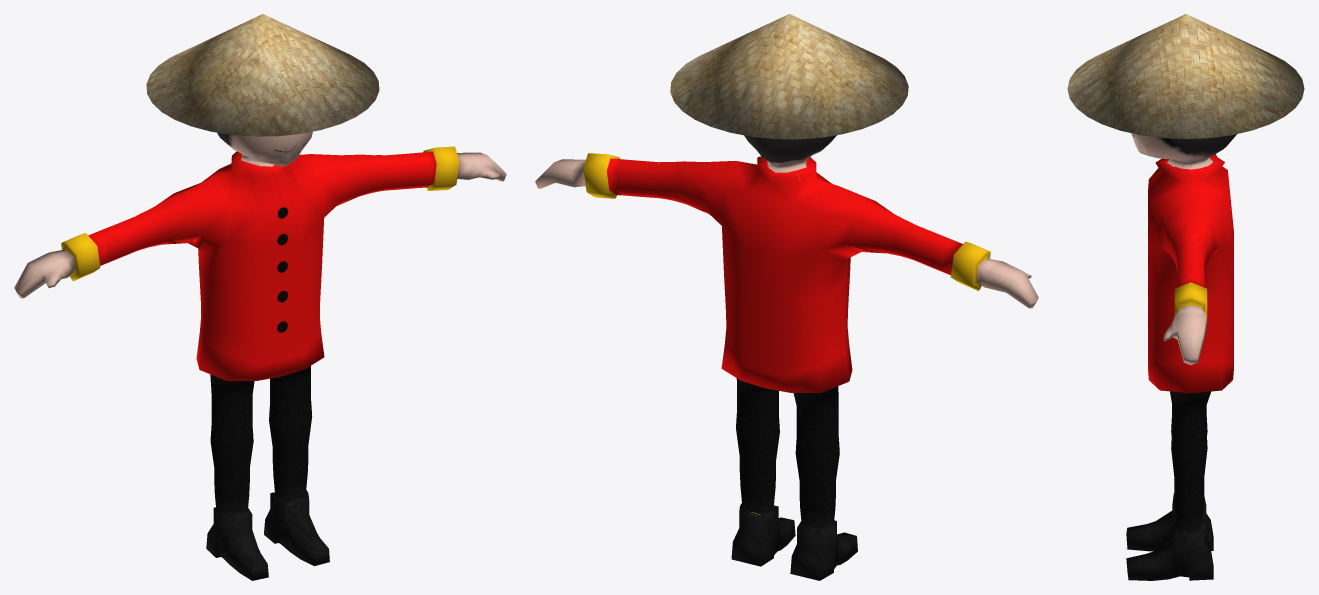
File: cinesino.fbx
3 views of the same model, side by side, from view 1: azimuth 30°, elevation 25°; view 2: azimuth 150°, elevation 25°; view 3: azimuth 270°, elevation 25° (orthographic). The views are drawn at different scales.
Visible parts, largest first — view 1: persona; view 2: persona; view 3: persona.
Boxes of the visible parts, x1=… form: persona: x1=14, y1=14, x2=506, y2=580; persona: x1=535, y1=14, x2=1038, y2=580; persona: x1=1067, y1=14, x2=1304, y2=580.
Size of the model in its own units: 151 by 159 by 62.4.
